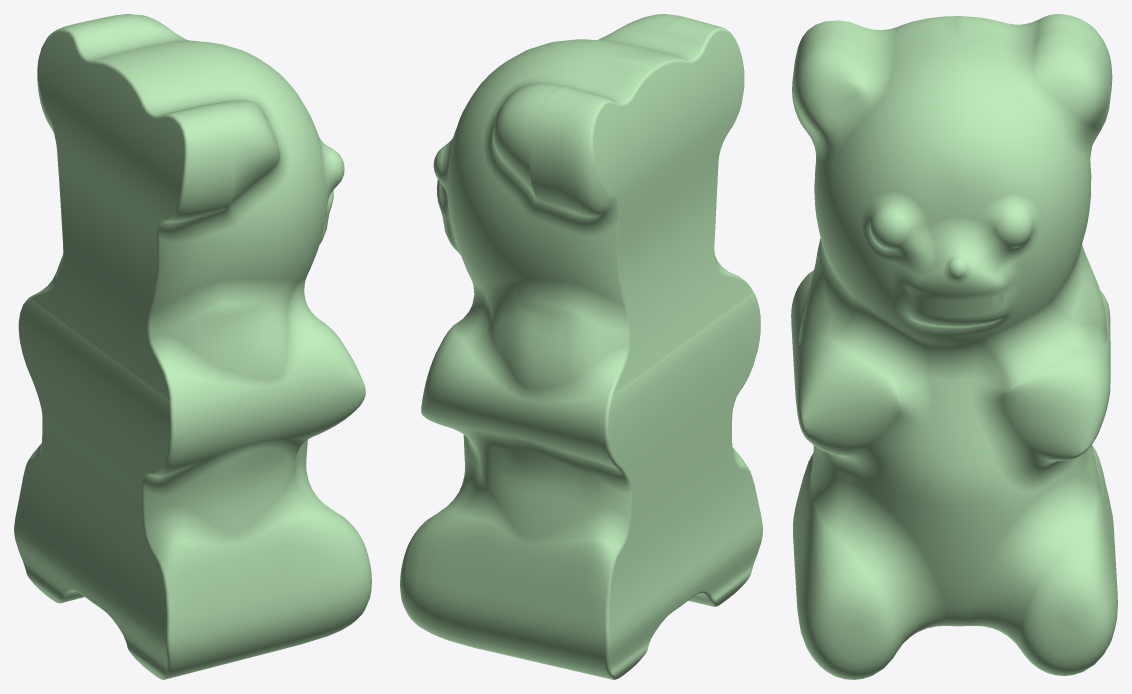
Rendered from haribo.fbx.
3 views of the same model, side by side, from view 1: azimuth 30°, elevation 25°; view 2: azimuth 150°, elevation 25°; view 3: azimuth 270°, elevation 25° (orthographic). The views are drawn at different scales.
Visible parts, largest first — view 1: Bear; view 2: Bear; view 3: Bear.
Boxes of the visible parts, x1,y1,x2,y2 form: Bear: [14, 14, 371, 679]; Bear: [400, 14, 762, 679]; Bear: [791, 14, 1117, 679].
Size of the model in its own units: 1.01 by 2.26 by 1.14.
